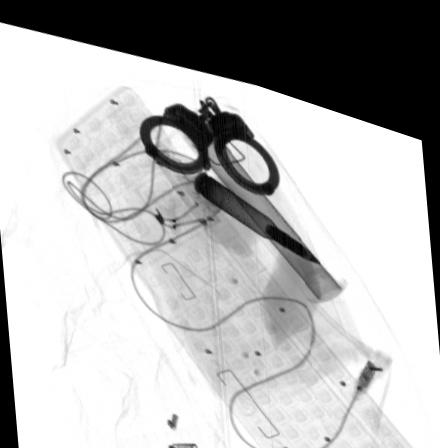Bullet: (192, 161, 322, 244)
HandCuffs: (136, 81, 278, 179)
